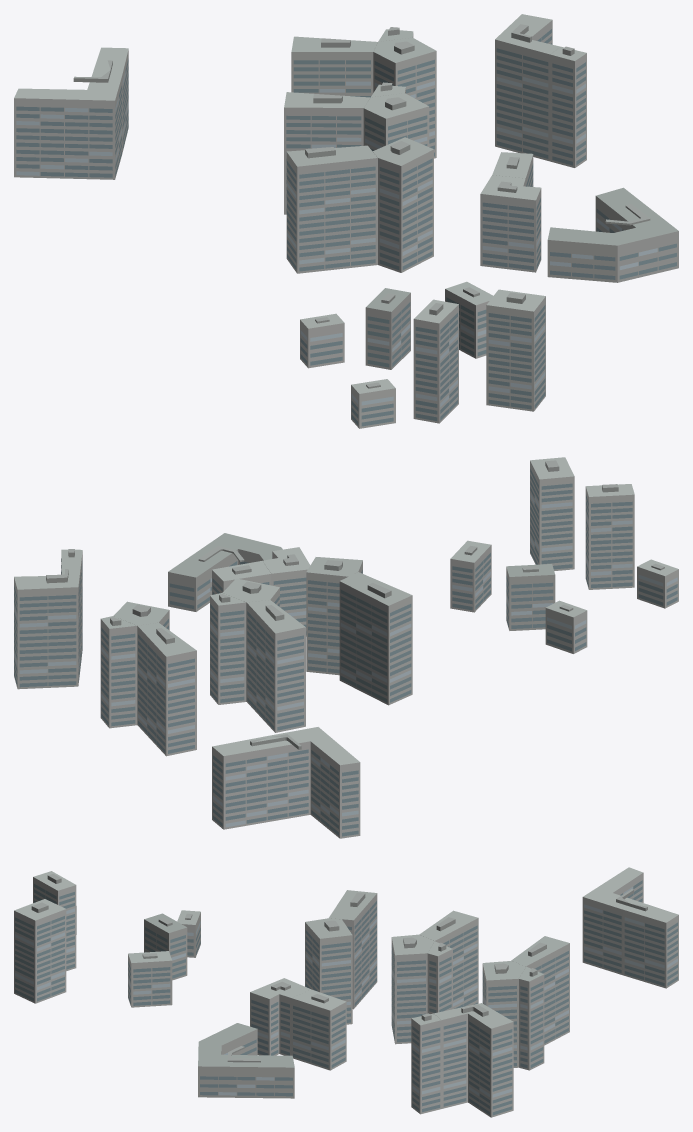
Rendered from apt-a41279932.glb.
3 renders of one model, top to bottom at view 1: azimuth 30°, elevation 25°; view 2: azimuth 150°, elevation 25°; view 3: azimuth 270°, elevation 25°, orthographic. The views are drawn at different scales.
Parts seen in each view (by area): view 1: apt-a41279932; view 2: apt-a41279932; view 3: apt-a41279932.
Part boxes in pixels (x1,y1,x2,y2): apt-a41279932: (14, 14, 678, 428); apt-a41279932: (14, 457, 678, 838); apt-a41279932: (14, 867, 678, 1117).
Size of the model in its own units: 196 by 46 by 298.
